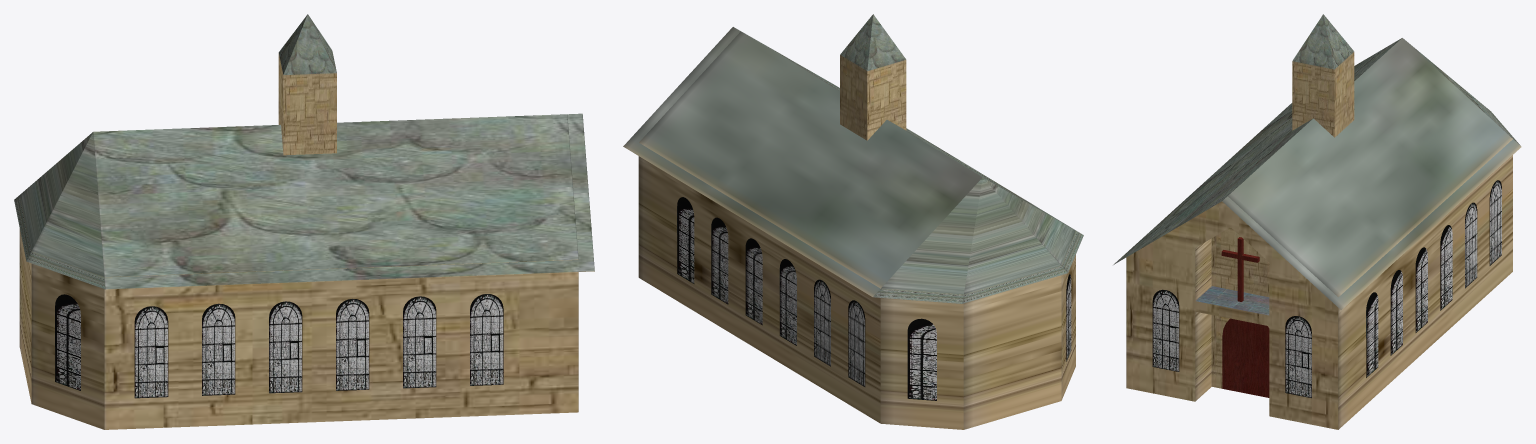
The model's file is GMLID_BUI46739_1739_10911.dae.
3 renders of one model, left to right at view 1: azimuth 30°, elevation 25°; view 2: azimuth 150°, elevation 25°; view 3: azimuth 270°, elevation 25°, orthographic. The views are drawn at different scales.
Bounding box in the file's own units: 26.9 × 21 × 17.4.
2 materials, 1 textured.
